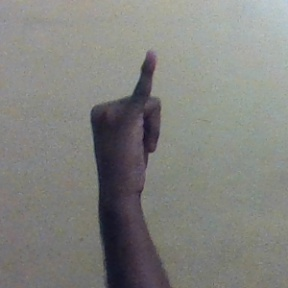I: (92, 49, 173, 204)
